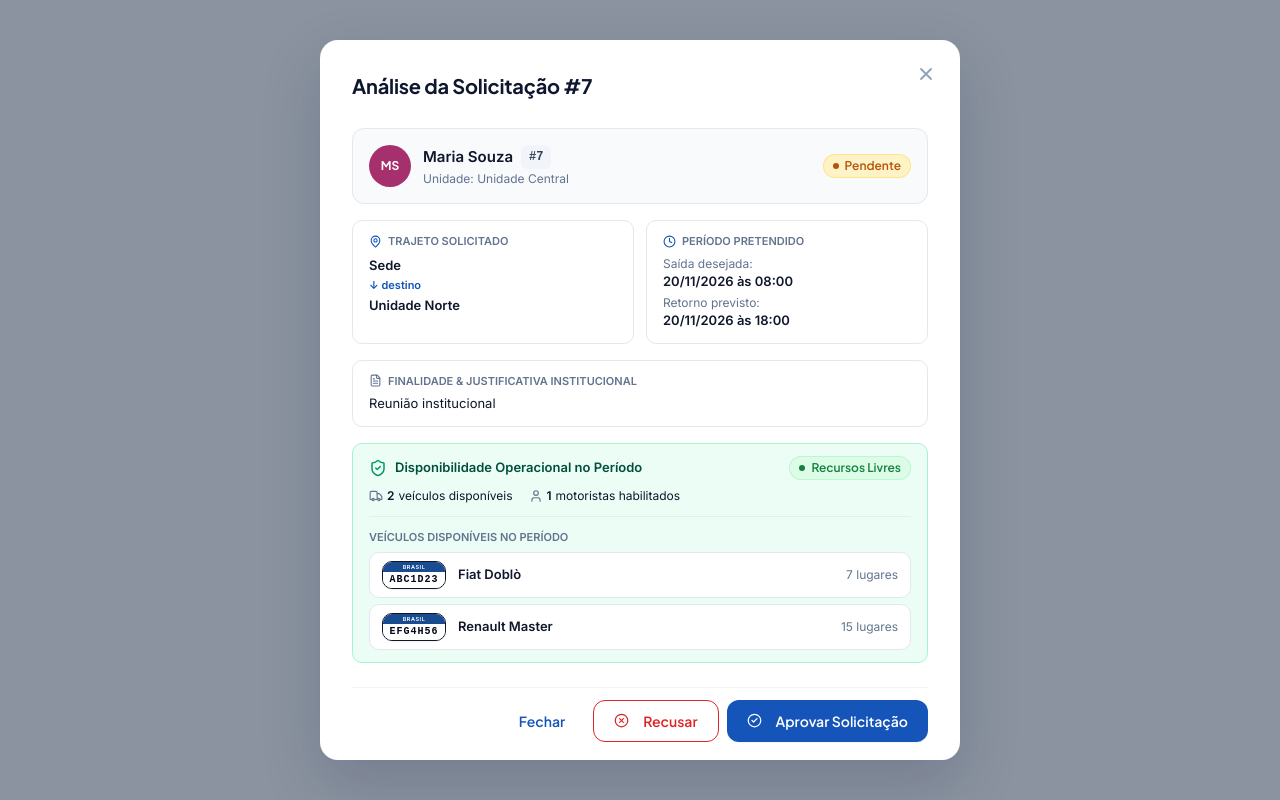
Scenario: ModalAnaliseSolicitacao - justificativa da recusa › não confirma a recusa com justificativa vazia
The width and height of the screenshot is (1280, 800).
Click the button "Recusar": (656, 721) [593,700,718,742]
(page scrolled)
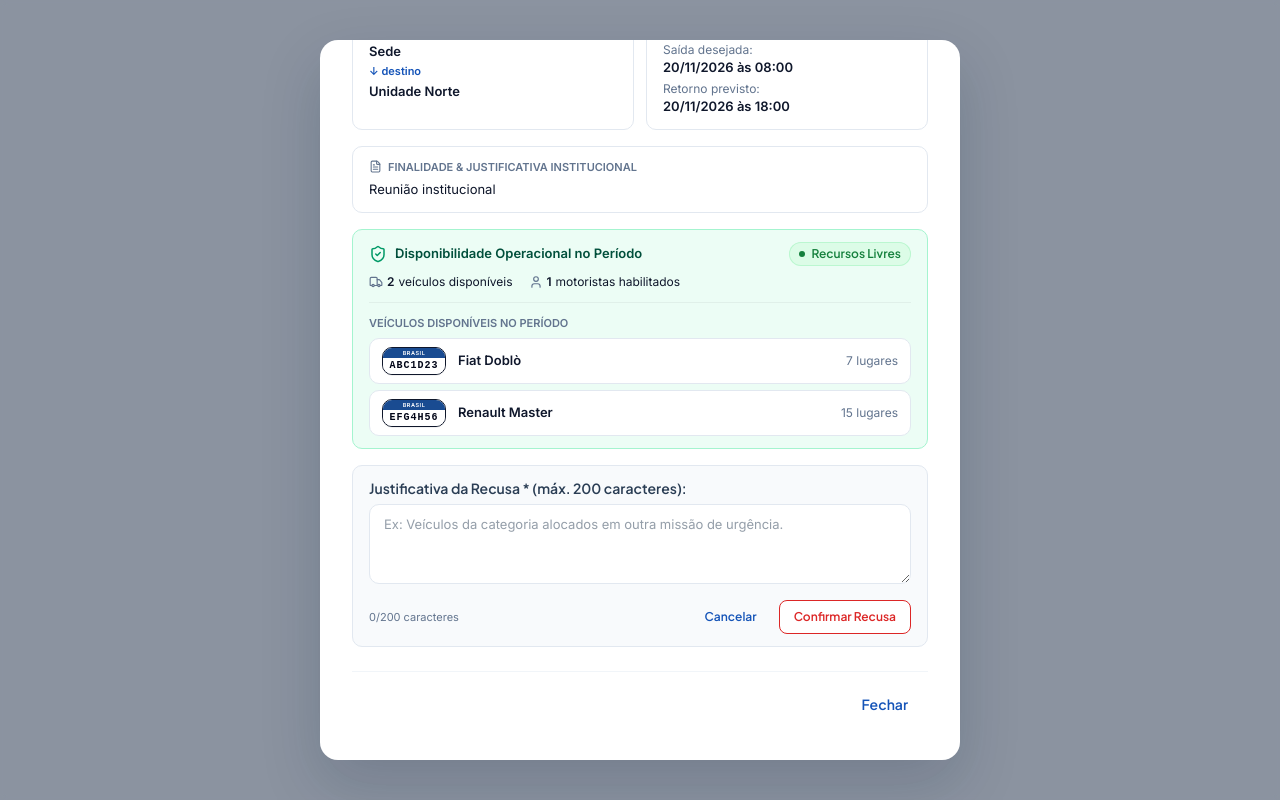
Click the button "Confirmar Recusa": (845, 617) [779,600,911,634]
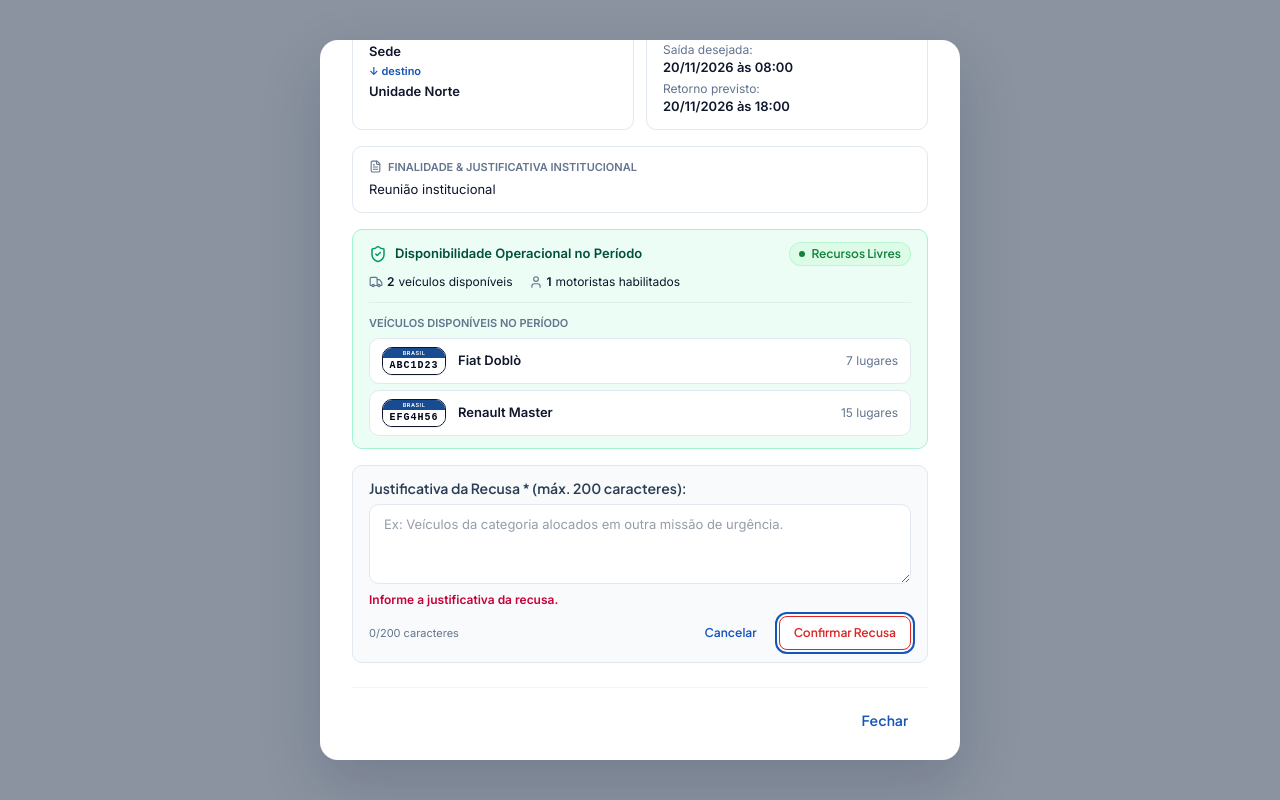
Expected: the message reads "Informe a justificativa da recusa.", [369,592,558,607]
